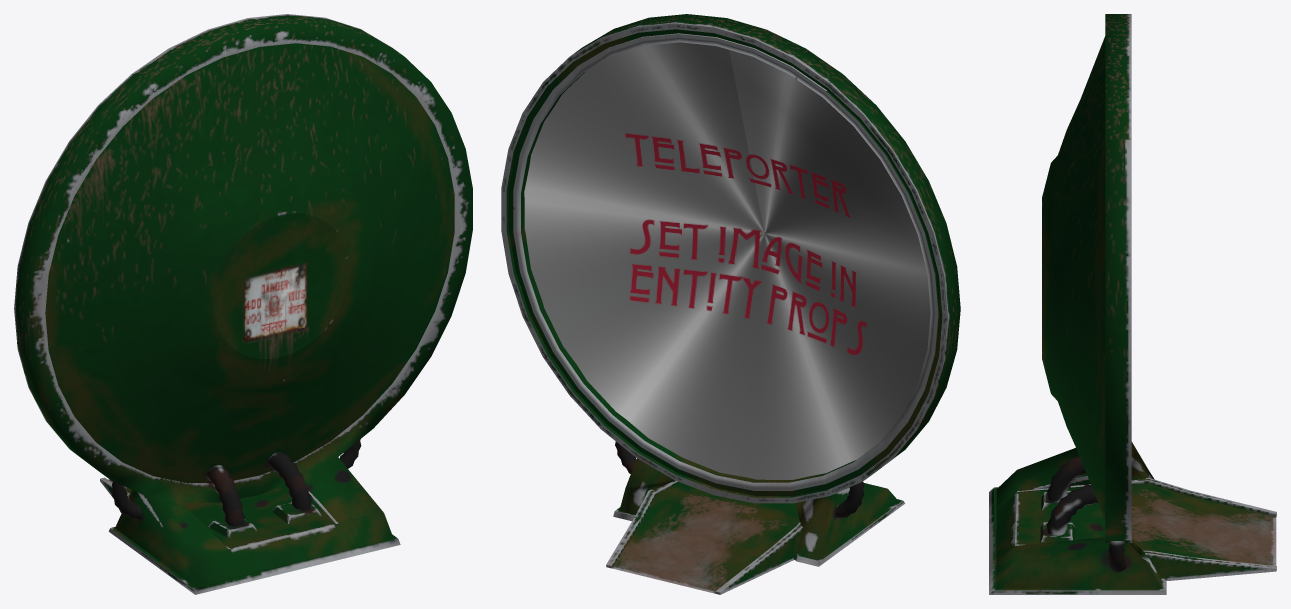
The model's file is mPortalFrame_4.fbx.
3 renders of one model, left to right at view 1: azimuth 30°, elevation 25°; view 2: azimuth 150°, elevation 25°; view 3: azimuth 270°, elevation 25°, orthographic. The views are drawn at different scales.
Visible parts, largest first — view 1: portalEmpire; view 2: portalDisc, portalEmpire; view 3: portalEmpire.
Boxes of the visible parts, <box> form: portalEmpire: <box>14,14,472,594</box>; portalDisc: <box>524,42,930,479</box>; portalEmpire: <box>501,14,960,594</box>; portalEmpire: <box>989,14,1276,594</box>.
Bounding box in the file's own units: 126 × 134 × 68.42.
2 materials, 2 textured.
